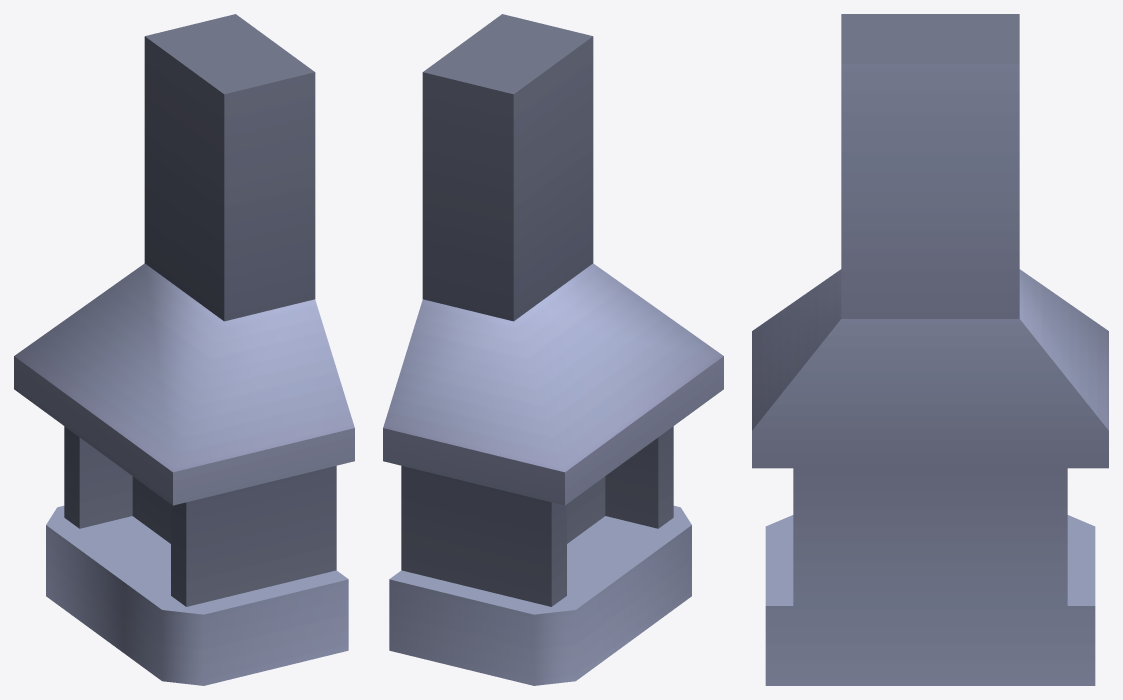
Rendered from chimney-base.glb.
3 views of the same model, side by side, from view 1: azimuth 30°, elevation 25°; view 2: azimuth 150°, elevation 25°; view 3: azimuth 270°, elevation 25° (orthographic). The views are drawn at different scales.
Parts seen in each view (by area): view 1: chimney-base; view 2: chimney-base; view 3: chimney-base.
Boxes of the visible parts, x1,y1,x2,y2 form: chimney-base: [14, 14, 354, 685]; chimney-base: [383, 14, 723, 685]; chimney-base: [752, 14, 1108, 685].
Size of the model in its own units: 0.3438 by 1 by 0.52.
1 material, 1 textured.
